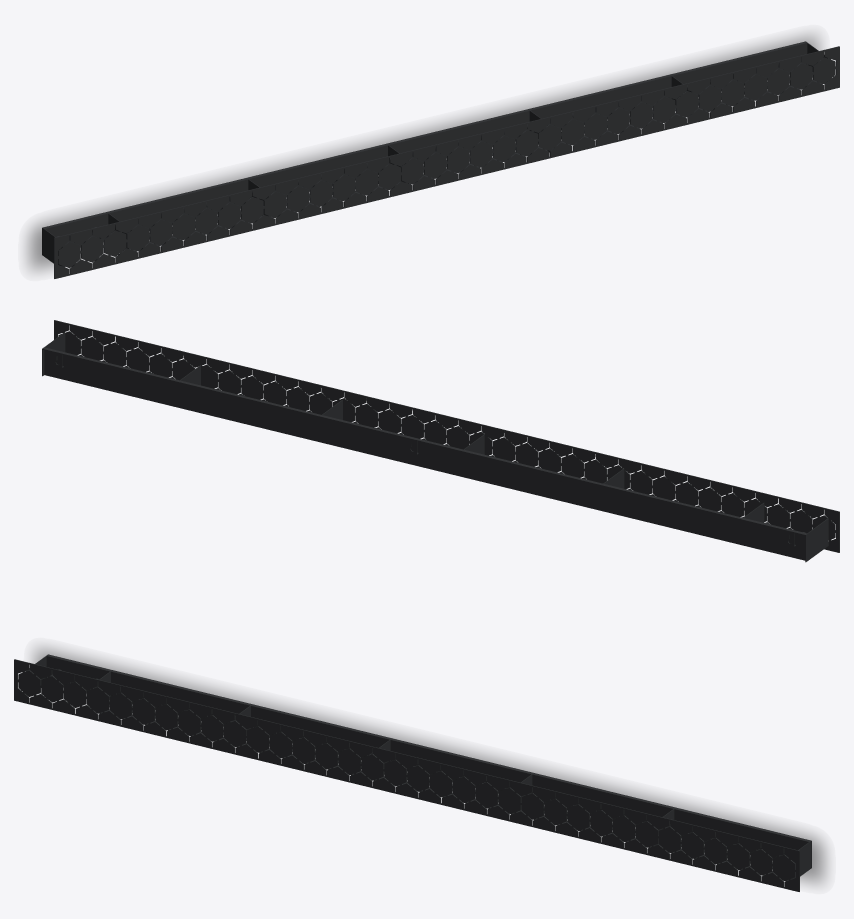
File: bee-patron.99737f467a.ar.glb
3 views of the same model, one above another, from view 1: azimuth 30°, elevation 25°; view 2: azimuth 150°, elevation 25°; view 3: azimuth 330°, elevation 25° (orthographic).
Parts seen in each view (by area): view 1: NAUO1, object 2; view 2: NAUO1; view 3: NAUO1, object 2.
Part boxes in pixels (bbox=[...]): NAUO1: bbox=[42, 41, 839, 278]; object 2: bbox=[26, 34, 821, 271]; NAUO1: bbox=[42, 320, 839, 562]; NAUO1: bbox=[14, 654, 811, 891]; object 2: bbox=[32, 647, 827, 884].
Bounding box in the file's own units: 1.88 × 0.17 × 0.092.
Materials: 2 (1 with a texture image).
